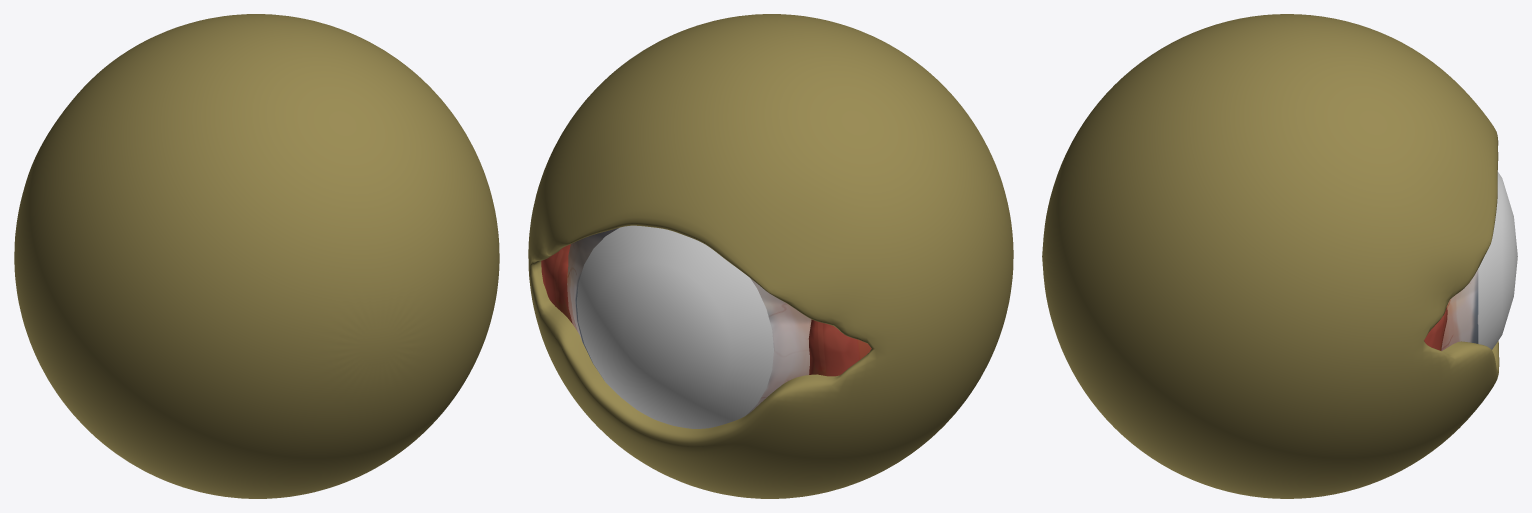
The model's file is eye.fbx.
3 views of the same model, side by side, from view 1: azimuth 30°, elevation 25°; view 2: azimuth 150°, elevation 25°; view 3: azimuth 270°, elevation 25° (orthographic).
Parts seen in each view (by area): view 1: eye_blob; view 2: eye_blob, iris_top, eyeball, eye_corner; view 3: eye_blob, iris_top, eyeball.
Boxes of the visible parts, x1=… form: eye_blob: x1=14, y1=14, x2=499, y2=498; eye_blob: x1=528, y1=14, x2=1013, y2=498; iris_top: x1=576, y1=225, x2=773, y2=428; eyeball: x1=567, y1=228, x2=811, y2=415; eye_corner: x1=541, y1=244, x2=871, y2=376; eye_blob: x1=1042, y1=14, x2=1499, y2=498; iris_top: x1=1478, y1=171, x2=1517, y2=349; eyeball: x1=1441, y1=269, x2=1478, y2=350.
Bounding box in the file's own units: 236 × 236 × 232.
